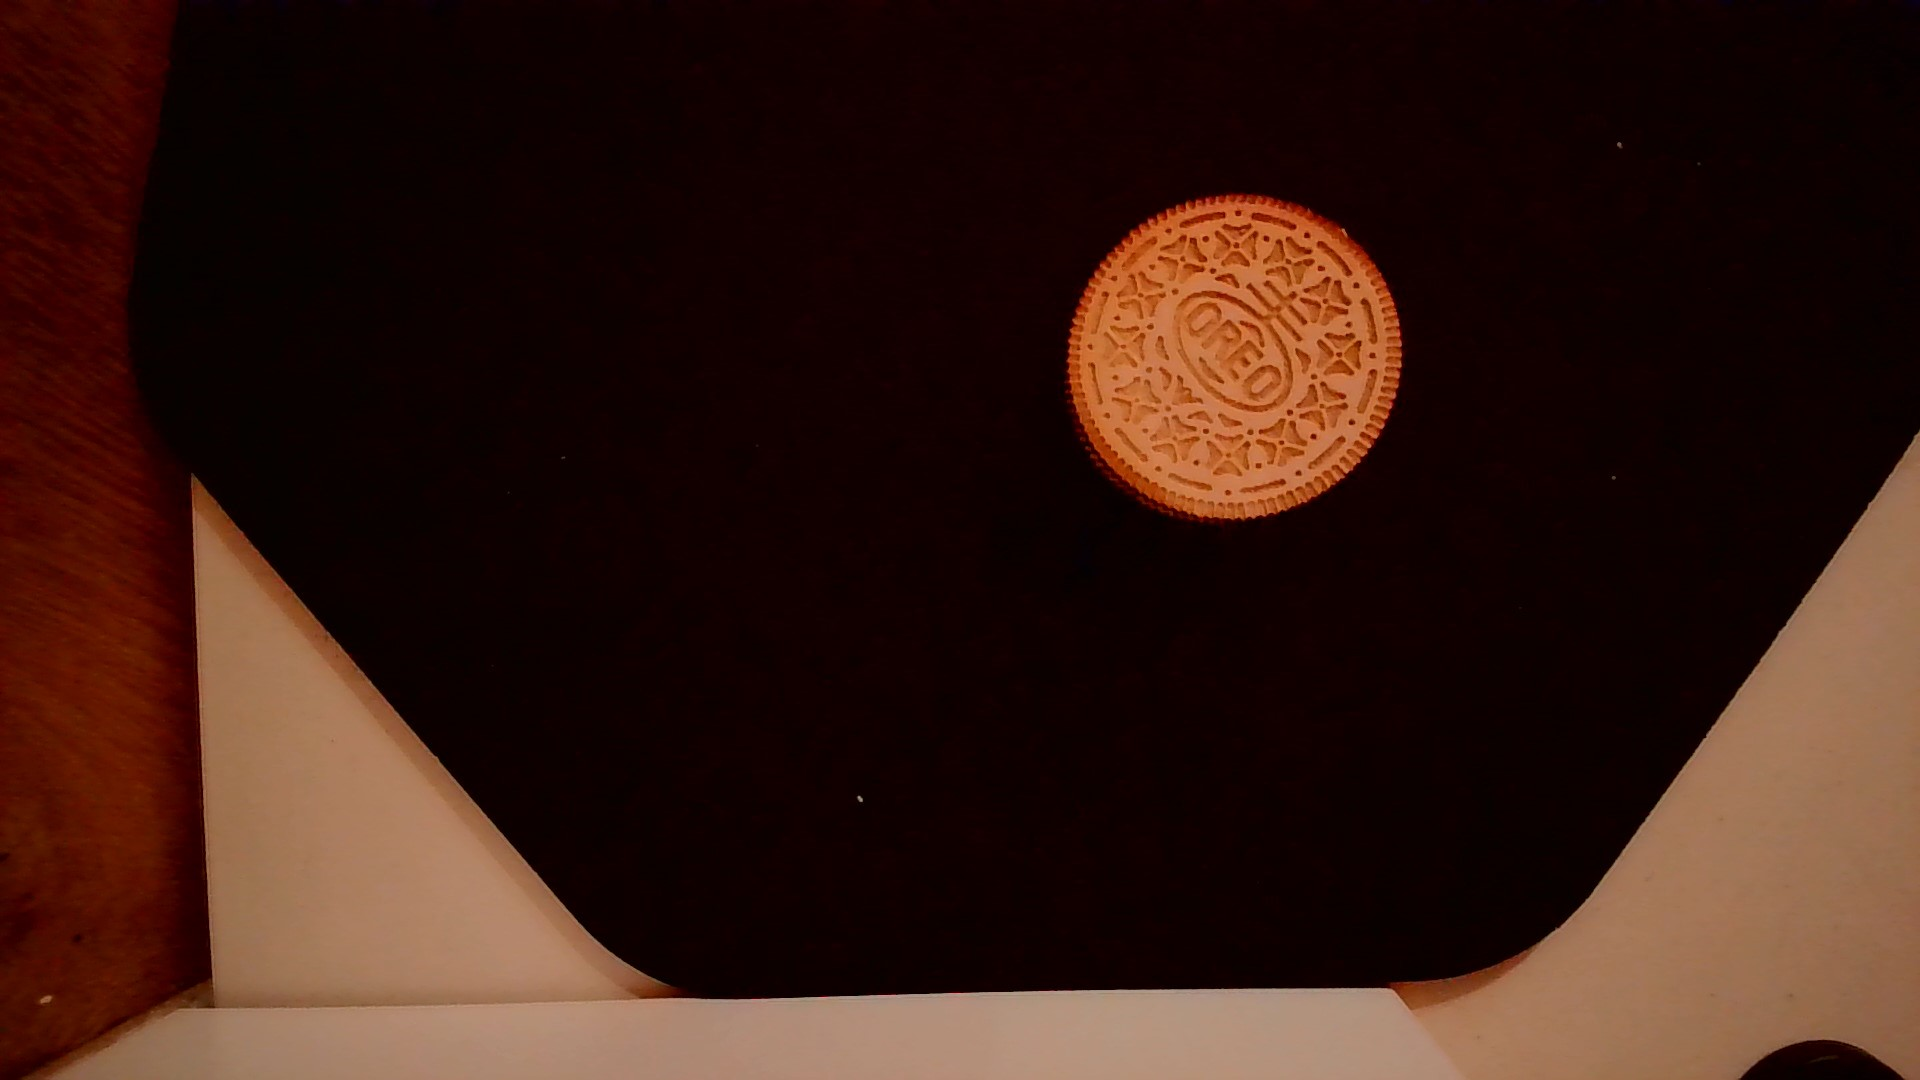Oréo: (1054, 189, 1412, 530)
